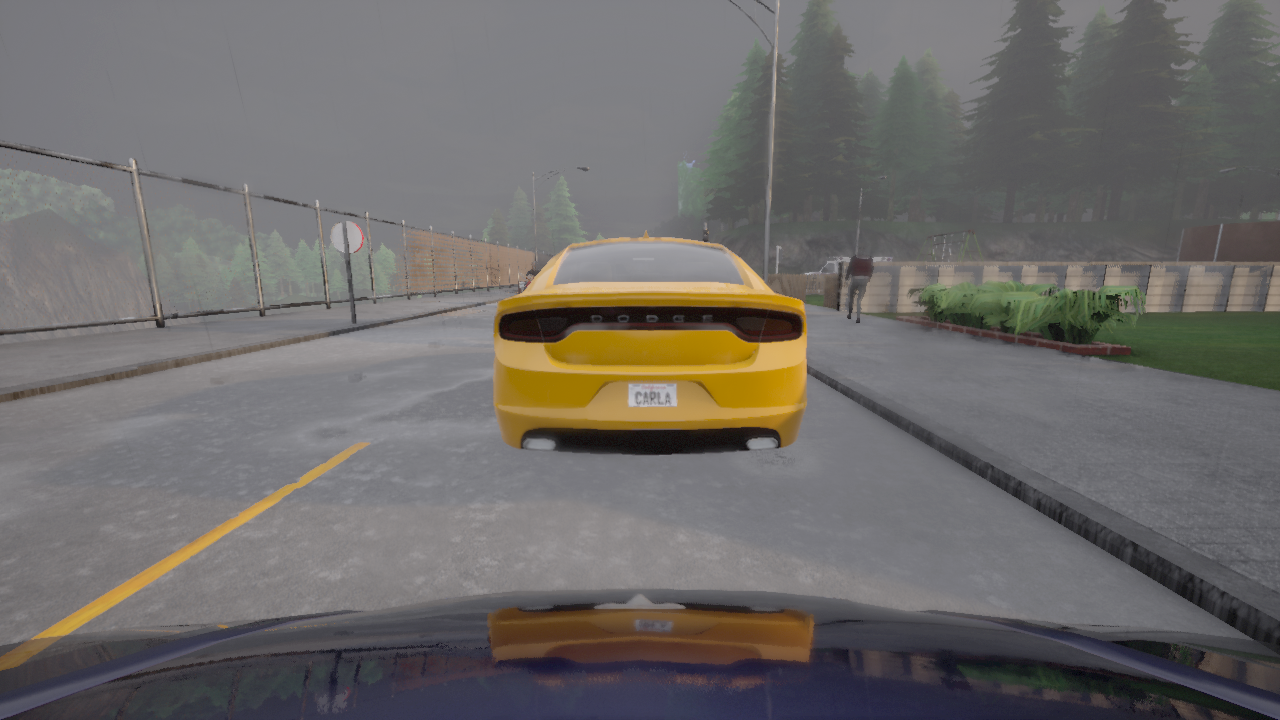cyclist: (0, 588, 1279, 719), (494, 230, 806, 454), (800, 256, 893, 289), (520, 273, 534, 290)
pedestrian: (843, 242, 874, 323)
